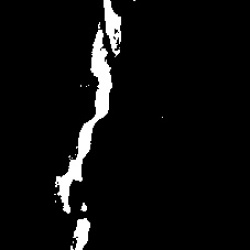crack: (56, 24, 113, 213), (104, 1, 121, 57), (73, 220, 91, 248)
pinhole: (80, 203, 88, 210)
